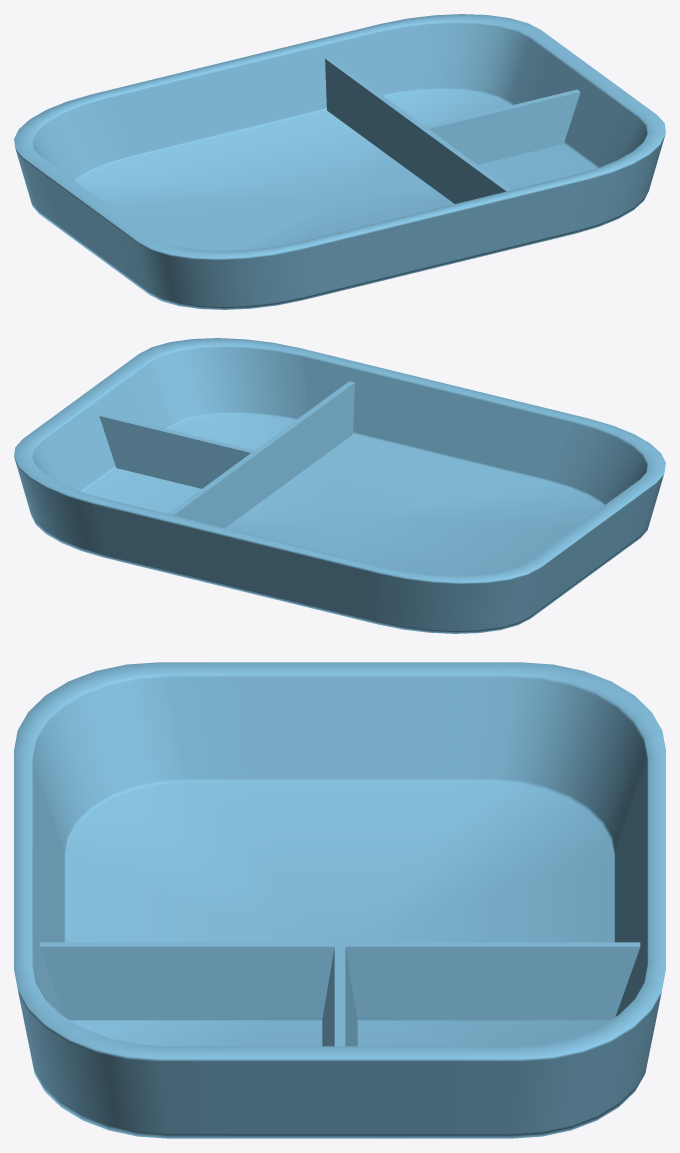
The model's file is Tray.fbx.
3 views of the same model, one above another, from view 1: azimuth 30°, elevation 25°; view 2: azimuth 150°, elevation 25°; view 3: azimuth 270°, elevation 25° (orthographic). The views are drawn at different scales.
Visible parts, largest first — view 1: Lunch_base01; view 2: Lunch_base01; view 3: Lunch_base01.
Part boxes in pixels (x1,y1,x2,y2): Lunch_base01: [14, 14, 665, 309]; Lunch_base01: [14, 338, 665, 633]; Lunch_base01: [14, 662, 665, 1138].
Bounding box in the file's own units: 1225 × 133 × 855.
